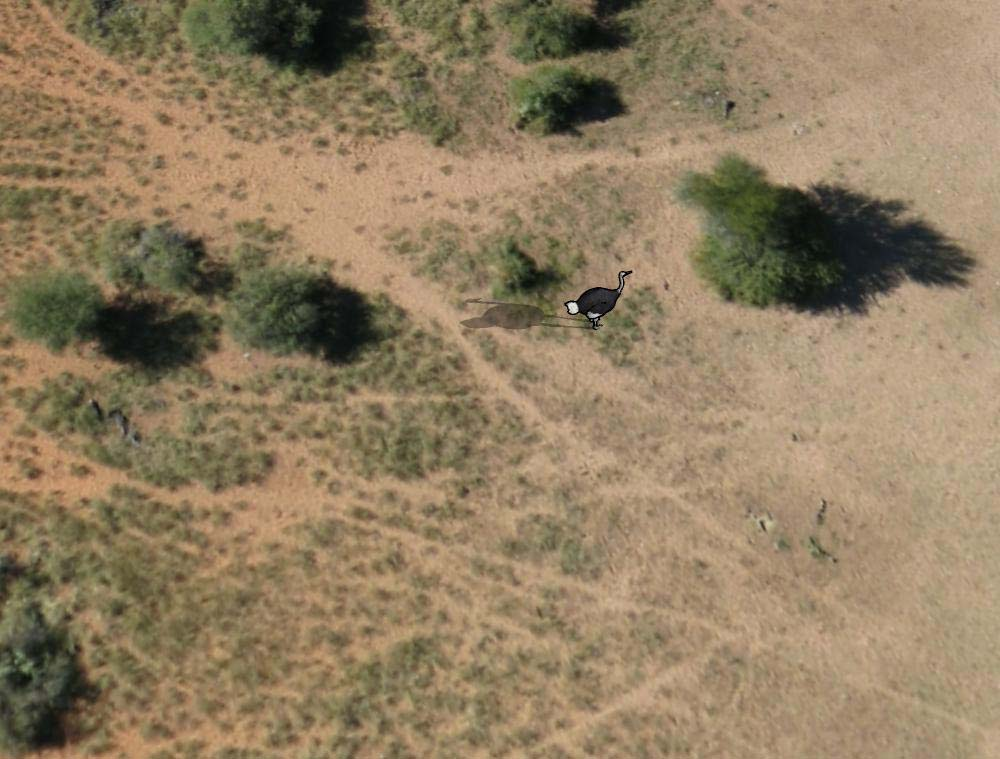springbok: (565, 267, 637, 328)
